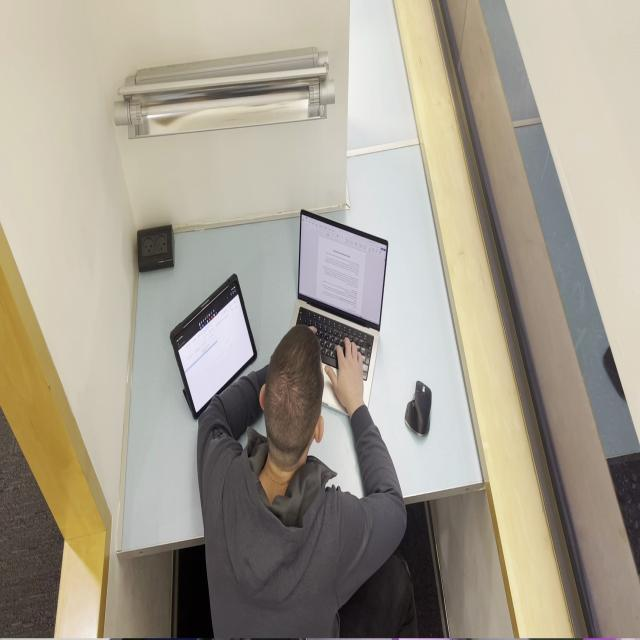bag: (169, 272, 257, 421)
ipad: (196, 323, 418, 639)
laptop: (290, 208, 388, 417)
mouse: (401, 380, 435, 438)
